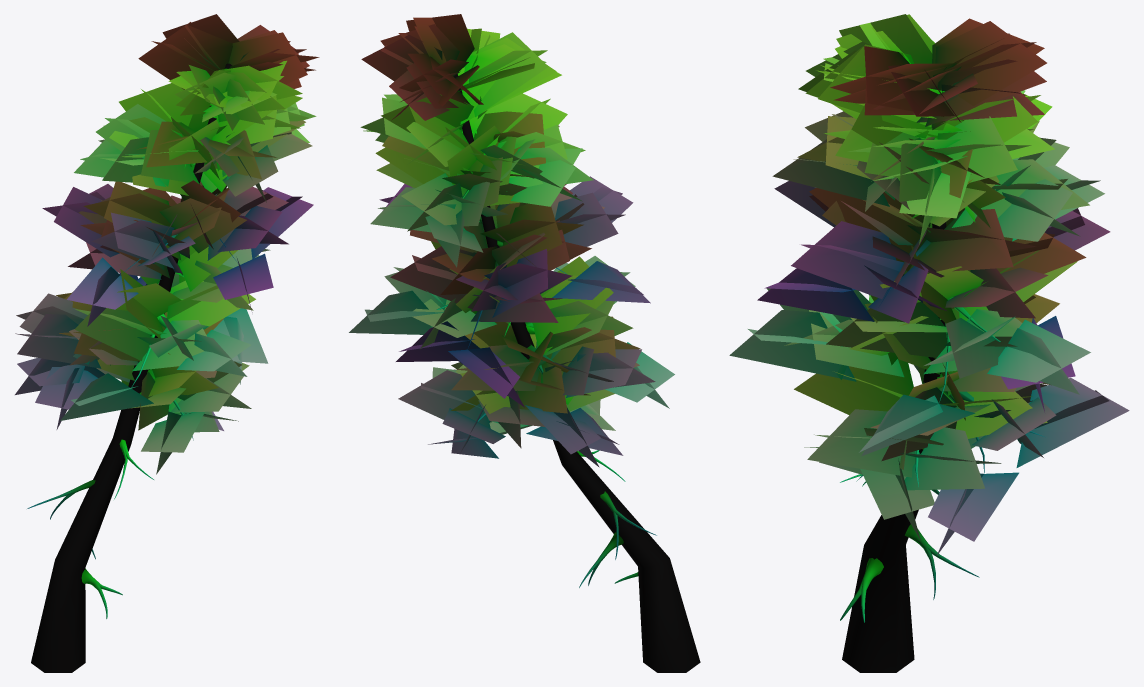
Rendered from M_Pine_1_10.fbx.
The picture shows the model from 3 angles, left to right: view 1: azimuth 30°, elevation 25°; view 2: azimuth 150°, elevation 25°; view 3: azimuth 270°, elevation 25°; orthographic projection. The views are drawn at different scales.
Parts seen in each view (by area): view 1: Tree_10; view 2: Tree_10; view 3: Tree_10.
Part boxes in pixels (left/top/right/bottom): Tree_10: left=15, top=14, right=319, bottom=672; Tree_10: left=349, top=14, right=700, bottom=672; Tree_10: left=729, top=14, right=1129, bottom=672.
Bounding box in the file's own units: 1384 × 2595 × 1260.
